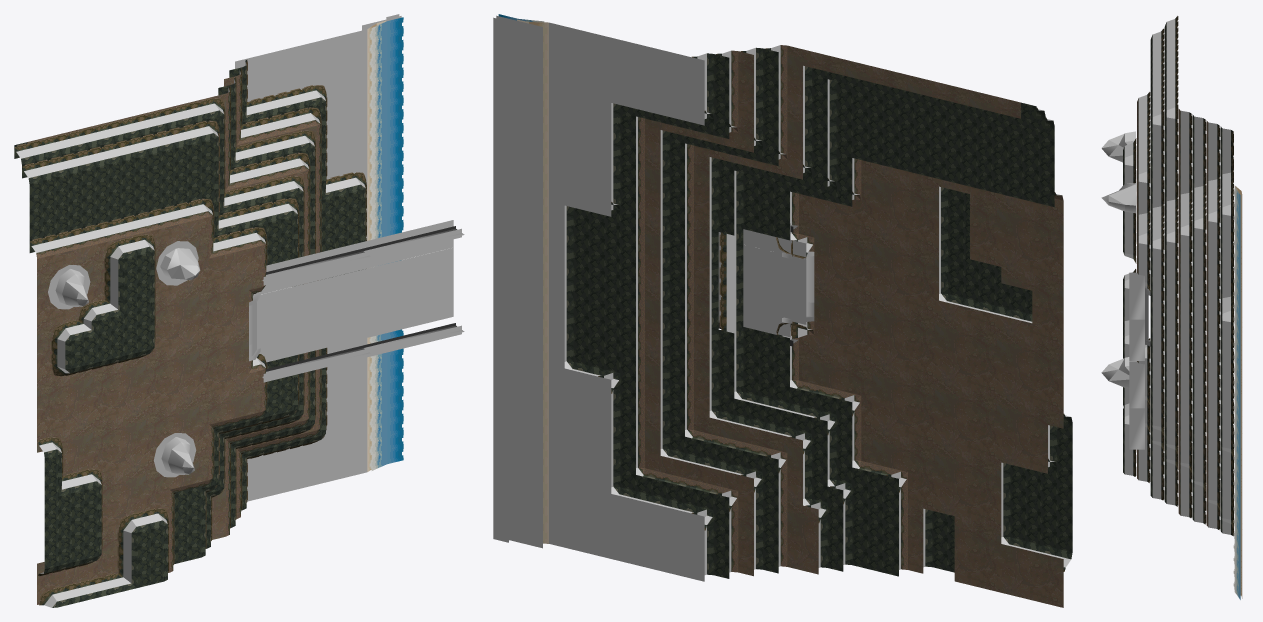
Rendered from Barrier-Reef_10_03.obj.
3 views of the same model, side by side, from view 1: azimuth 30°, elevation 25°; view 2: azimuth 150°, elevation 25°; view 3: azimuth 270°, elevation 25° (orthographic). The views are drawn at different scales.
Parts seen in each view (by area): view 1: map; view 2: map; view 3: map.
Part boxes in pixels (x1,y1,x2,y2): map: [14, 14, 464, 607]; map: [493, 14, 1072, 607]; map: [1101, 16, 1242, 599].
Size of the model in its own units: 32 by 32 by 10.54.
